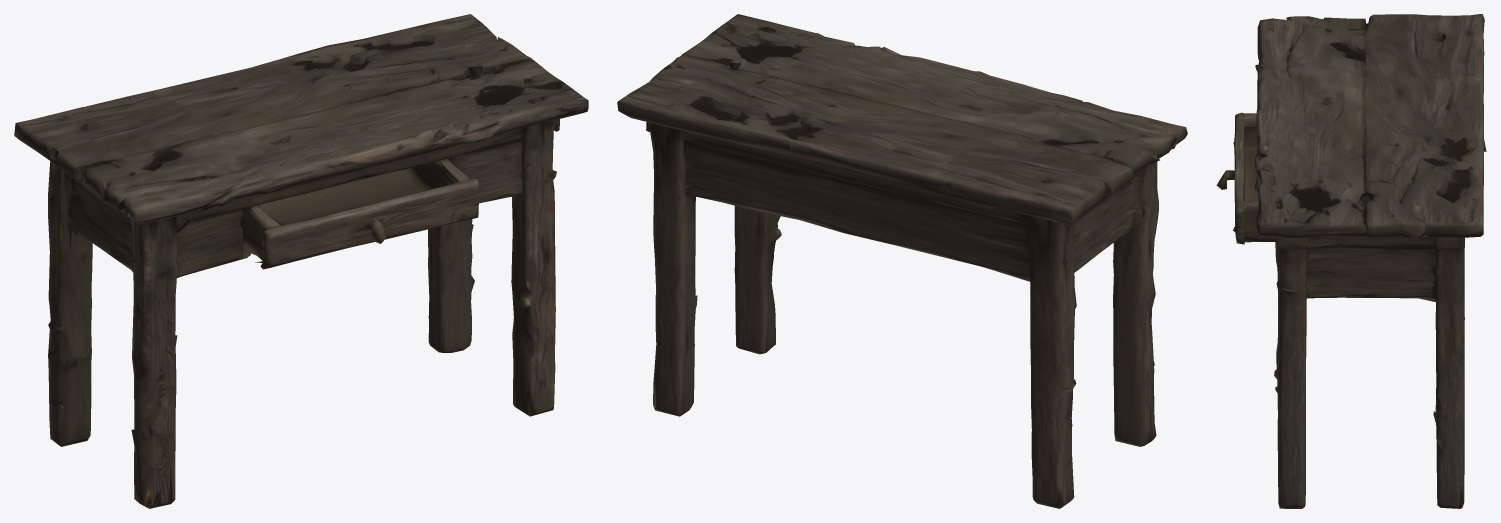
Rendered from level-xw0-desk.glb.
3 views of the same model, side by side, from view 1: azimuth 30°, elevation 25°; view 2: azimuth 150°, elevation 25°; view 3: azimuth 270°, elevation 25° (orthographic). The views are drawn at different scales.
Parts seen in each view (by area): view 1: tripo_node_12f98bf5-e841-42fe-aa4e-8d83f17e6bdd; view 2: tripo_node_12f98bf5-e841-42fe-aa4e-8d83f17e6bdd; view 3: tripo_node_12f98bf5-e841-42fe-aa4e-8d83f17e6bdd.
Part boxes in pixels (<box>): tripo_node_12f98bf5-e841-42fe-aa4e-8d83f17e6bdd: <box>14,14,588,508</box>; tripo_node_12f98bf5-e841-42fe-aa4e-8d83f17e6bdd: <box>617,14,1187,508</box>; tripo_node_12f98bf5-e841-42fe-aa4e-8d83f17e6bdd: <box>1216,14,1486,508</box>.
Size of the model in its own units: 1.15 by 0.76 by 0.62.
Materials: 1 (1 with a texture image).
